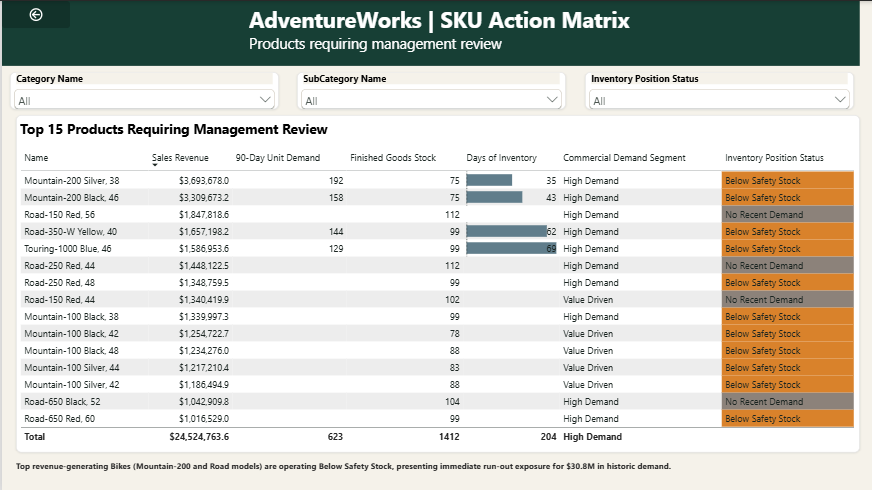

The page's visual inventory and layout, read from the dashboard file:
{"tool":"powerbi","page":{"name":"SKU Action","canvas":[1280,720],"ordinal":3},"visuals":[{"type":"shape","box":[0,0,1260,95],"z":0},{"type":"textbox","box":[363.3,5,961.7,90],"z":1000},{"type":"slicer","fields":{"Values":["DimProductCategory.Category Name"]},"box":[11.7,104.6,395,55],"z":2000,"group":"g1"},{"type":"textbox","box":[20,673.3,1231.1,37.8],"z":2000},{"type":"actionButton","box":[0,0,100,40],"z":3000},{"type":"slicer","fields":{"Values":["DimProductSubCategory.SubCategory Name"]},"box":[433.7,105.1,395,55],"z":4000,"group":"g1"},{"type":"tableEx","title":"Top 15 Products Requiring Management Review","fields":{"Values":["DimProduct.Name","_Measures.Sales Revenue","_Measures.90-Day Unit Demand","_Measures.Finished Goods Stock","_Measures.Days of Inventory","_Measures.Commercial Demand Segment","DimProduct.Inventory Position Status"]},"box":[20,168,1240,496],"z":4000},{"type":"group","id":"g1","title":"Group 1","box":[11.7,104.6,1240,55],"z":5000},{"type":"slicer","fields":{"Values":["DimProduct.Inventory Position Status"]},"box":[856.7,105.1,395,55],"z":7000,"group":"g1"}]}

Visuals, with their boxes in screenshot pixels (x1, y1, x2, y2), scaled from the page's 1280x720 canvas onto the 872x490 screenshot:
shape: {"x1": 0, "y1": 0, "x2": 858, "y2": 65}
textbox: {"x1": 247, "y1": 3, "x2": 871, "y2": 65}
slicer - DimProductCategory.Category Name: {"x1": 8, "y1": 71, "x2": 277, "y2": 109}
textbox: {"x1": 14, "y1": 458, "x2": 852, "y2": 484}
actionButton: {"x1": 0, "y1": 0, "x2": 68, "y2": 27}
slicer - DimProductSubCategory.SubCategory Name: {"x1": 295, "y1": 72, "x2": 565, "y2": 109}
"Top 15 Products Requiring Management Review" tableEx: {"x1": 14, "y1": 114, "x2": 858, "y2": 452}
"Group 1" group: {"x1": 8, "y1": 71, "x2": 853, "y2": 109}
slicer - DimProduct.Inventory Position Status: {"x1": 584, "y1": 72, "x2": 853, "y2": 109}
